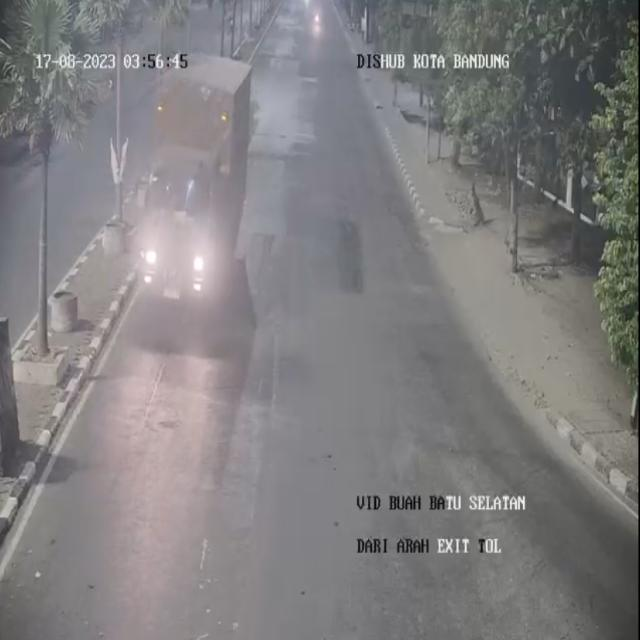truck: (124, 44, 260, 322)
